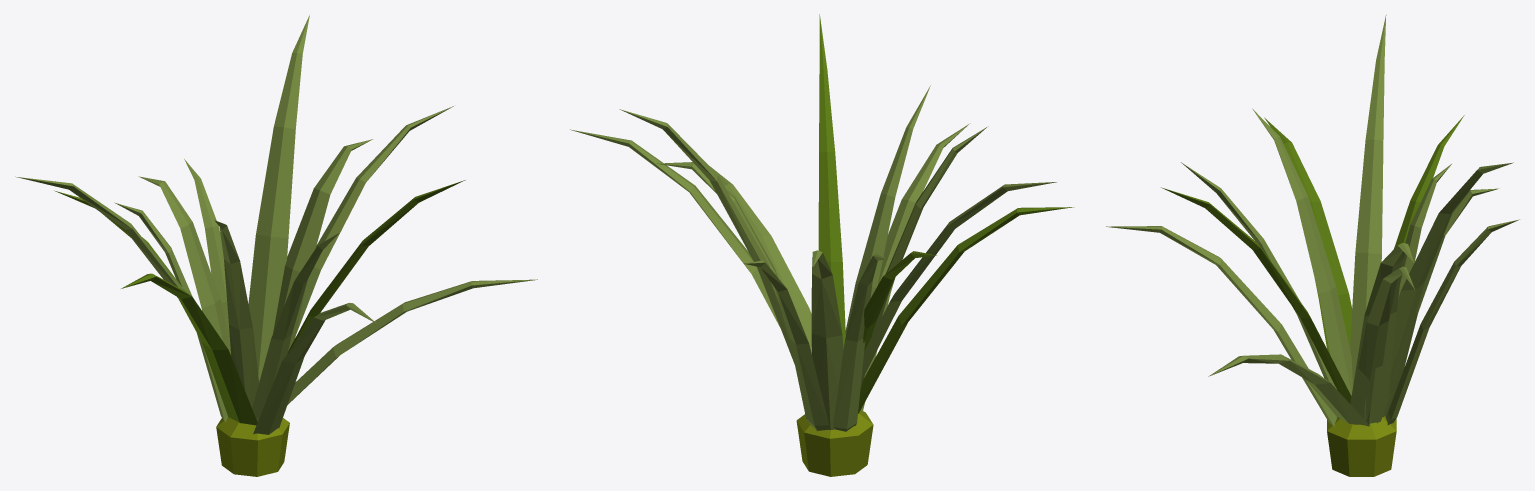
File: SM_Clutter_PlantGrass_01.fbx
3 views of the same model, side by side, from view 1: azimuth 30°, elevation 25°; view 2: azimuth 150°, elevation 25°; view 3: azimuth 270°, elevation 25° (orthographic). The views are drawn at different scales.
Visible parts, largest first — view 1: SM_Clutter_PlantGrass_01; view 2: SM_Clutter_PlantGrass_01; view 3: SM_Clutter_PlantGrass_01.
Part boxes in pixels (x1,y1,x2,y2): SM_Clutter_PlantGrass_01: [15, 15, 537, 476]; SM_Clutter_PlantGrass_01: [570, 14, 1073, 476]; SM_Clutter_PlantGrass_01: [1106, 14, 1519, 476].
Bounding box in the file's own units: 0.3676 × 0.2792 × 0.2874.
Materials: 1 (1 with a texture image).
